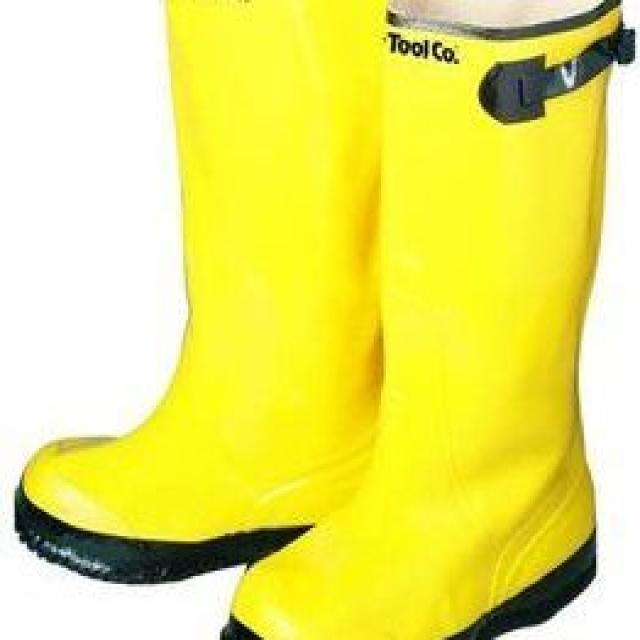boot: (19, 8, 329, 564), (365, 26, 610, 568), (157, 487, 625, 633), (172, 523, 618, 631)
